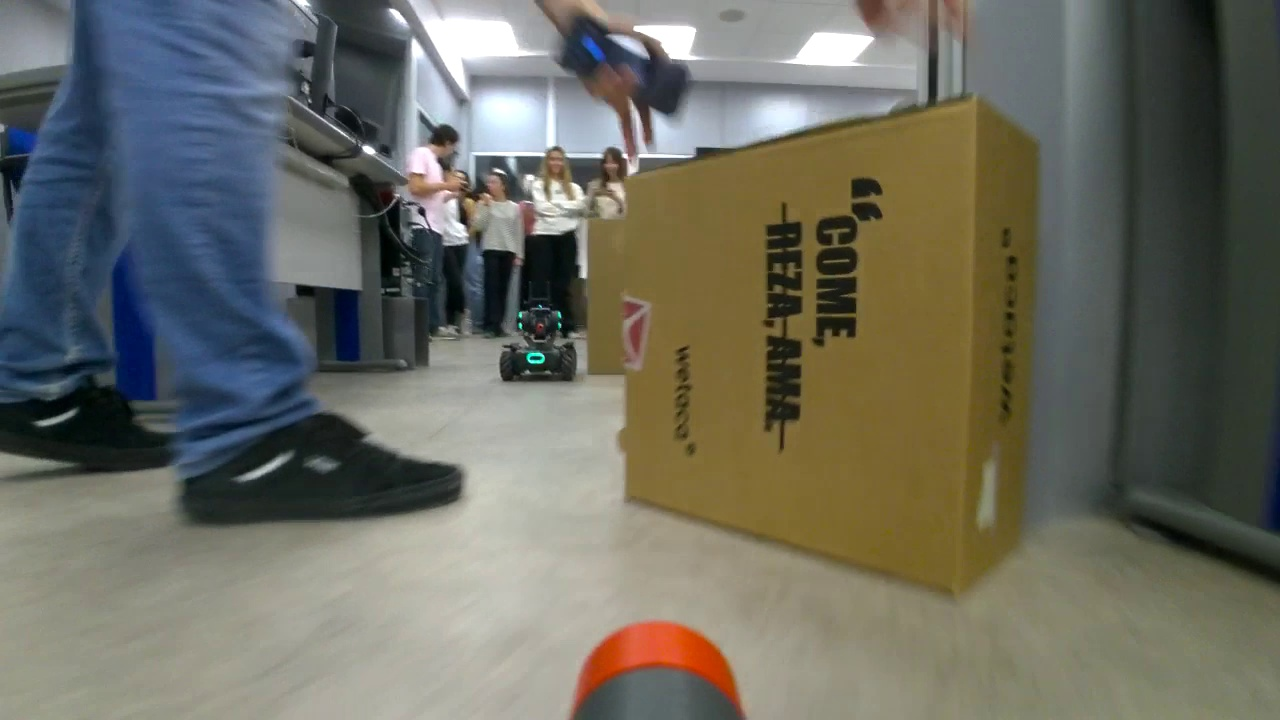robot: (501, 297, 579, 378)
